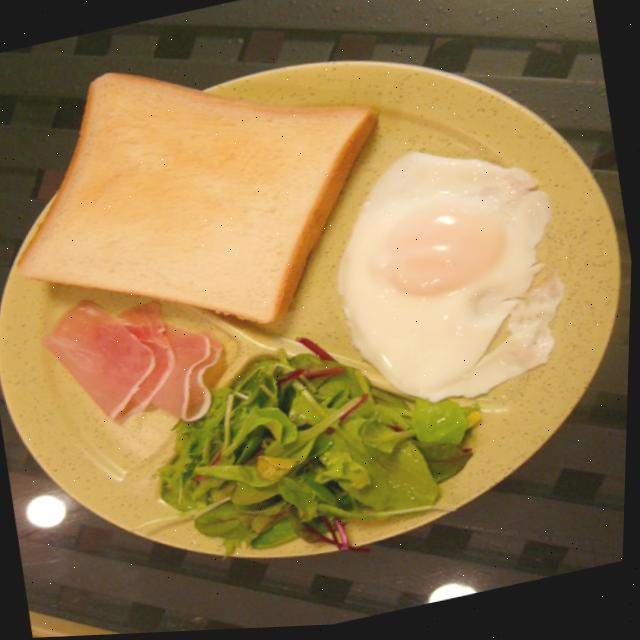蔬菜料理: (122, 317, 461, 584)
面包点心: (0, 23, 400, 372)
鸡蛋料理: (313, 127, 576, 431)
